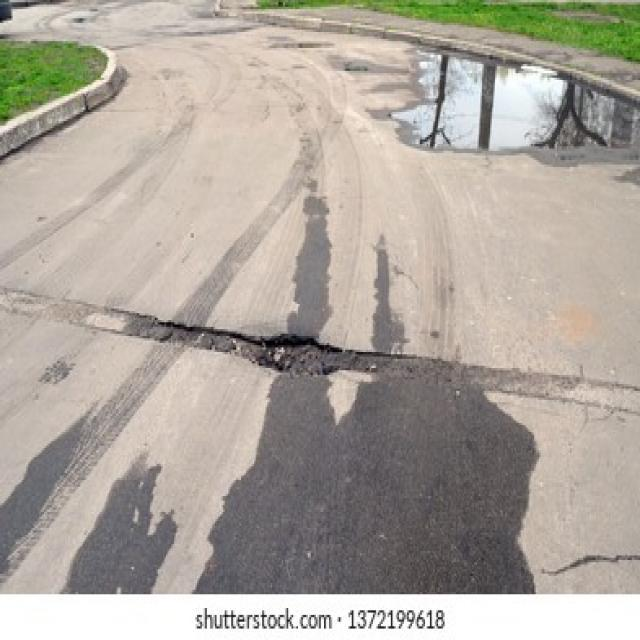Pothole: (252, 332, 334, 379)
